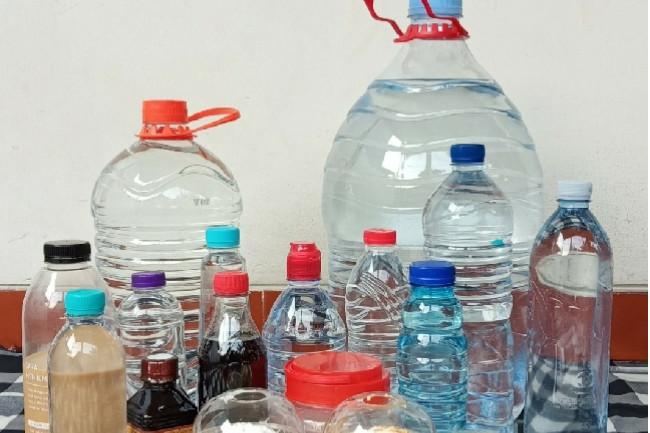HDPE: (282, 346, 386, 410), (139, 98, 240, 140), (41, 236, 93, 270), (286, 238, 324, 279), (407, 257, 455, 289), (62, 288, 108, 318), (211, 270, 252, 298), (205, 224, 242, 249), (553, 178, 595, 200), (449, 142, 487, 165), (360, 227, 399, 245), (131, 270, 167, 287)
PETE: (425, 166, 515, 433), (523, 200, 613, 433), (396, 287, 468, 433), (347, 246, 408, 399), (48, 319, 126, 433)
